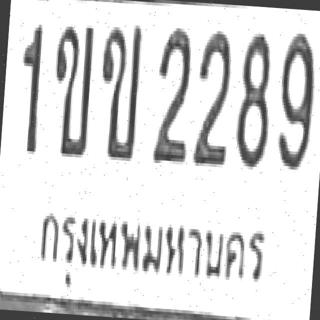A02: (94, 20, 142, 158), (48, 19, 94, 154)
N01: (14, 20, 43, 151)
N02: (191, 27, 234, 165), (150, 24, 193, 162)
N08: (232, 29, 275, 167)
N09: (274, 29, 317, 170)
P04: (26, 192, 273, 312)
